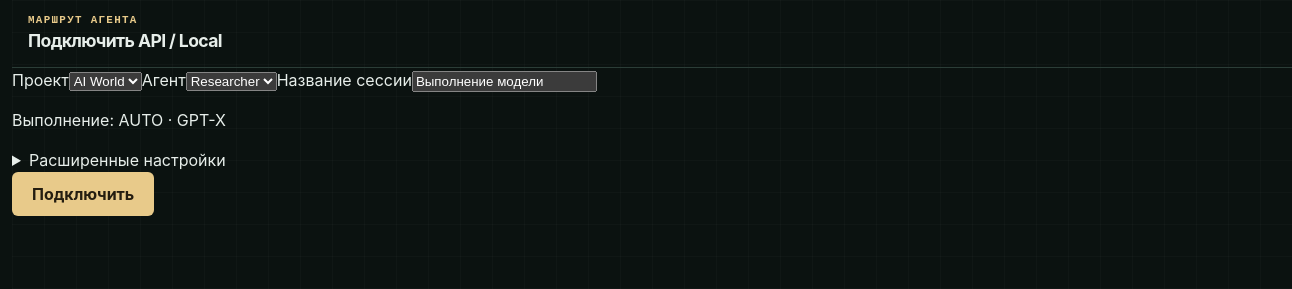
ModelExecutionConnectionPanel › creates one atomic Auto-selected model execution connection
The width and height of the screenshot is (1292, 289).
Expected: the text "Выполнение: AUTO · GPT-X" is shown, [12,110,226,130]
Click the button "Подключить". click: (83, 194)
box: [12,172,154,216]
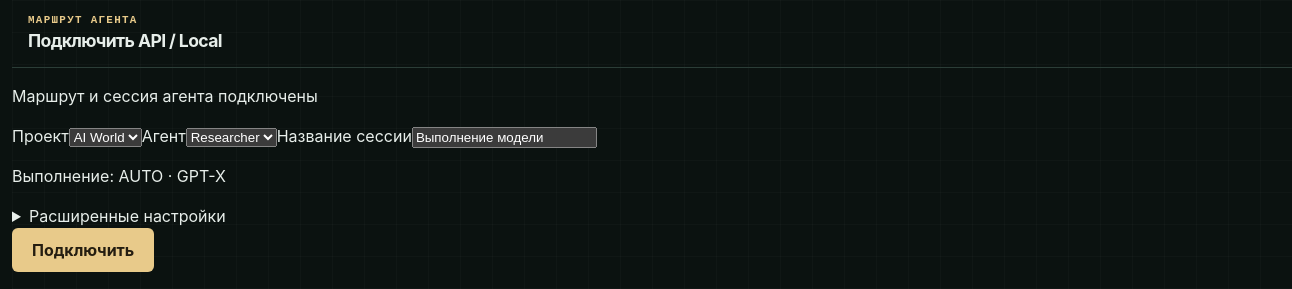
Expected: the text "Маршрут и сессия агента подключены" is shown, [12,86,318,106]
